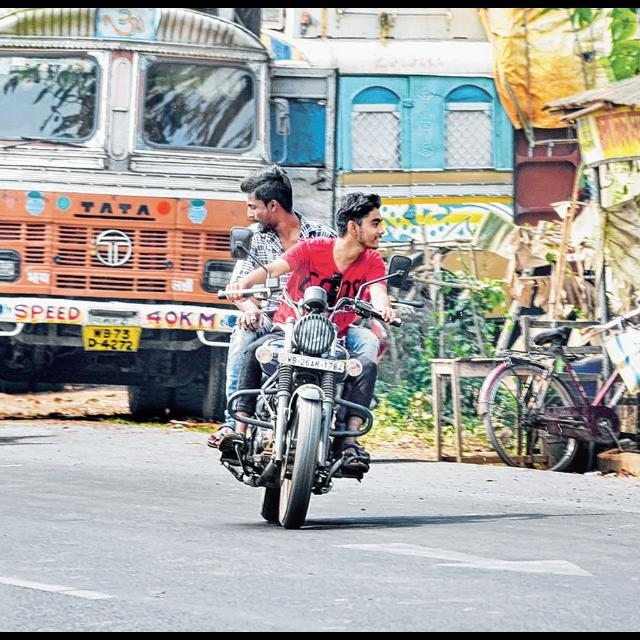without helmet: (240, 166, 294, 232), (336, 191, 384, 249)
